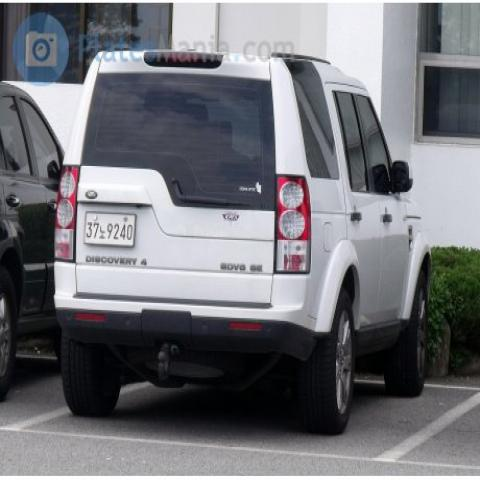LP: (74, 204, 153, 260)
